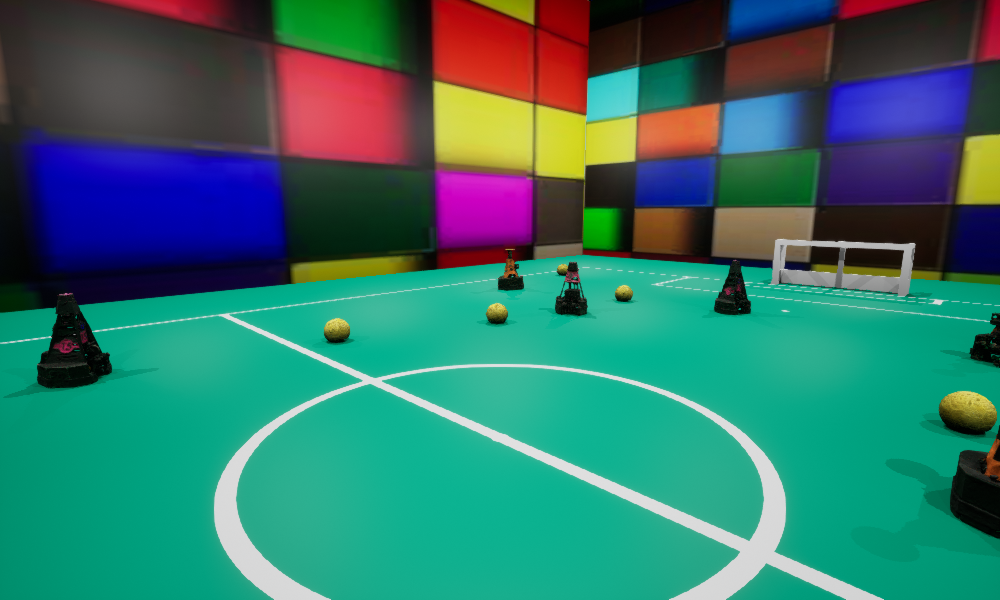b: (939, 391, 996, 433), (324, 318, 349, 342), (486, 303, 507, 323), (615, 285, 632, 300), (557, 264, 567, 274)
o: (950, 425, 999, 538), (969, 313, 999, 366), (498, 249, 523, 290)
p1: (37, 293, 111, 387), (714, 260, 750, 314)
p2: (555, 262, 587, 315)
